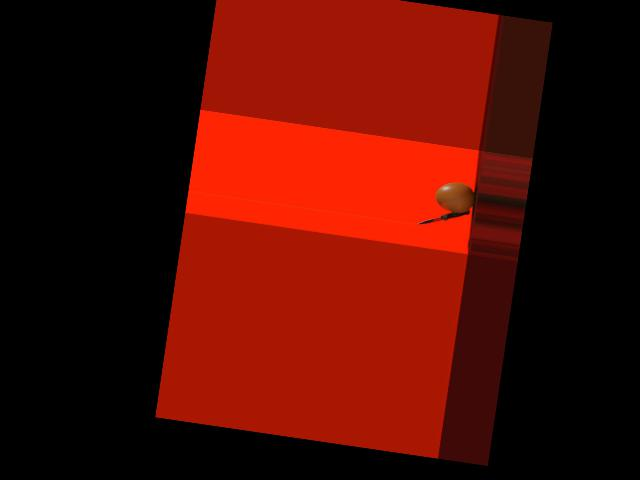egg: (434, 180, 476, 215)
